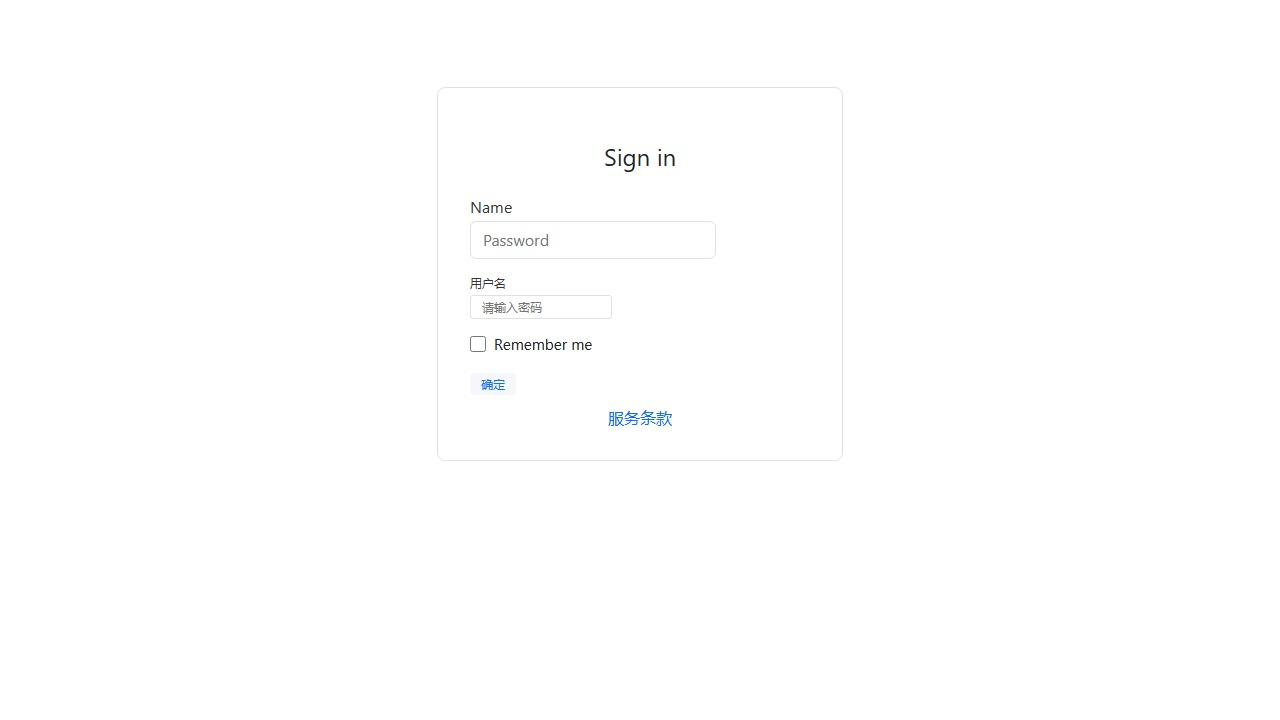button: (470, 373, 516, 395)
checkbox: (470, 336, 486, 352)
icon: (494, 335, 592, 354)
input: (470, 221, 716, 259), (470, 295, 612, 319)
link: (608, 407, 672, 428)
radio: (470, 335, 592, 354)
